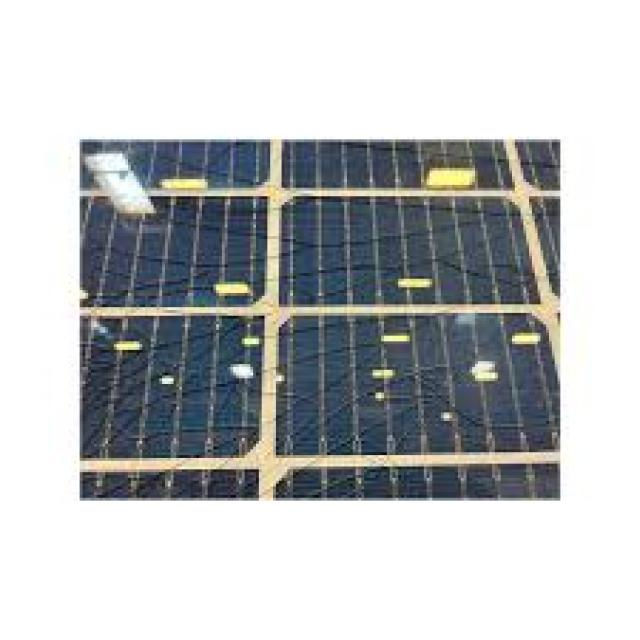faulty: (81, 138, 569, 504)
